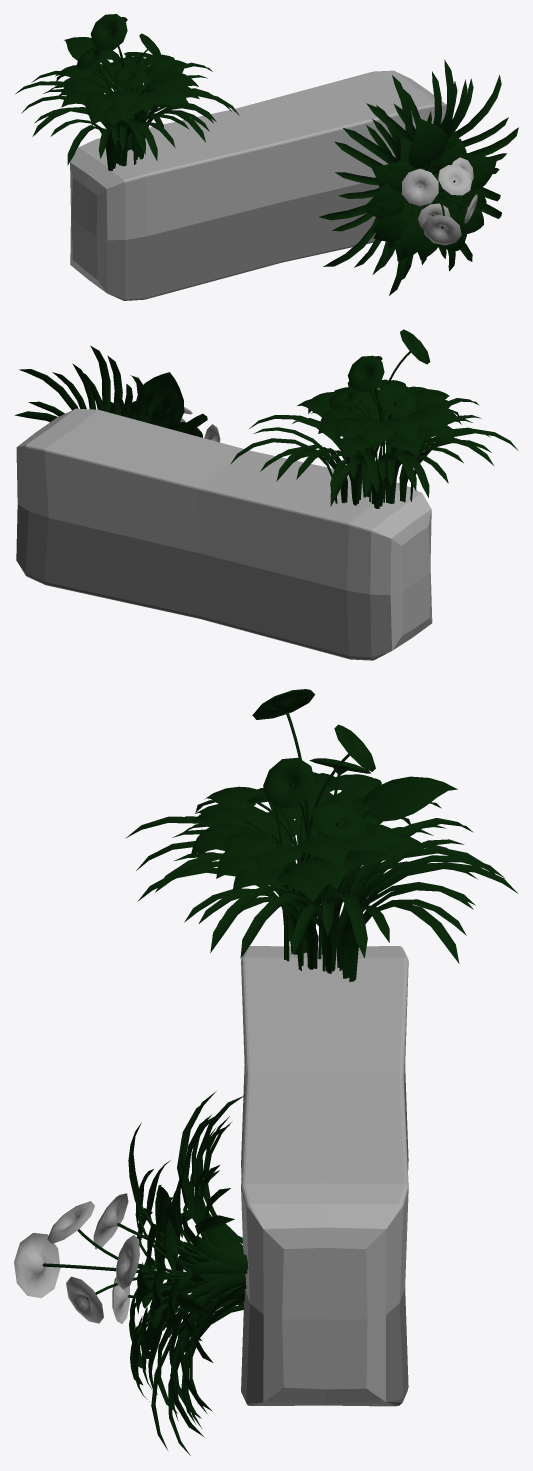
The model's file is PL_MEDIANA_B_GEO.fbx.
3 views of the same model, one above another, from view 1: azimuth 30°, elevation 25°; view 2: azimuth 150°, elevation 25°; view 3: azimuth 270°, elevation 25° (orthographic). The views are drawn at different scales.
Visible parts, largest first — view 1: PL_Corto_DOWN, SM_HS_Plant_08, SM_HS_Plant_07; view 2: PL_Corto_DOWN, SM_HS_Plant_07, SM_HS_Plant_08; view 3: PL_Corto_DOWN, SM_HS_Plant_07, SM_HS_Plant_08.
Boxes of the visible parts, bbox=[...] form: PL_Corto_DOWN: bbox=[70, 70, 446, 300]; SM_HS_Plant_08: bbox=[318, 59, 518, 295]; SM_HS_Plant_07: bbox=[15, 14, 239, 170]; PL_Corto_DOWN: bbox=[16, 408, 432, 660]; SM_HS_Plant_07: bbox=[230, 329, 518, 508]; SM_HS_Plant_08: bbox=[15, 345, 220, 442]; PL_Corto_DOWN: bbox=[241, 946, 408, 1406]; SM_HS_Plant_07: bbox=[125, 689, 517, 981]; SM_HS_Plant_08: bbox=[14, 1091, 248, 1455].
Bounding box in the file's own units: 5.24 × 3.41 × 2.95.
